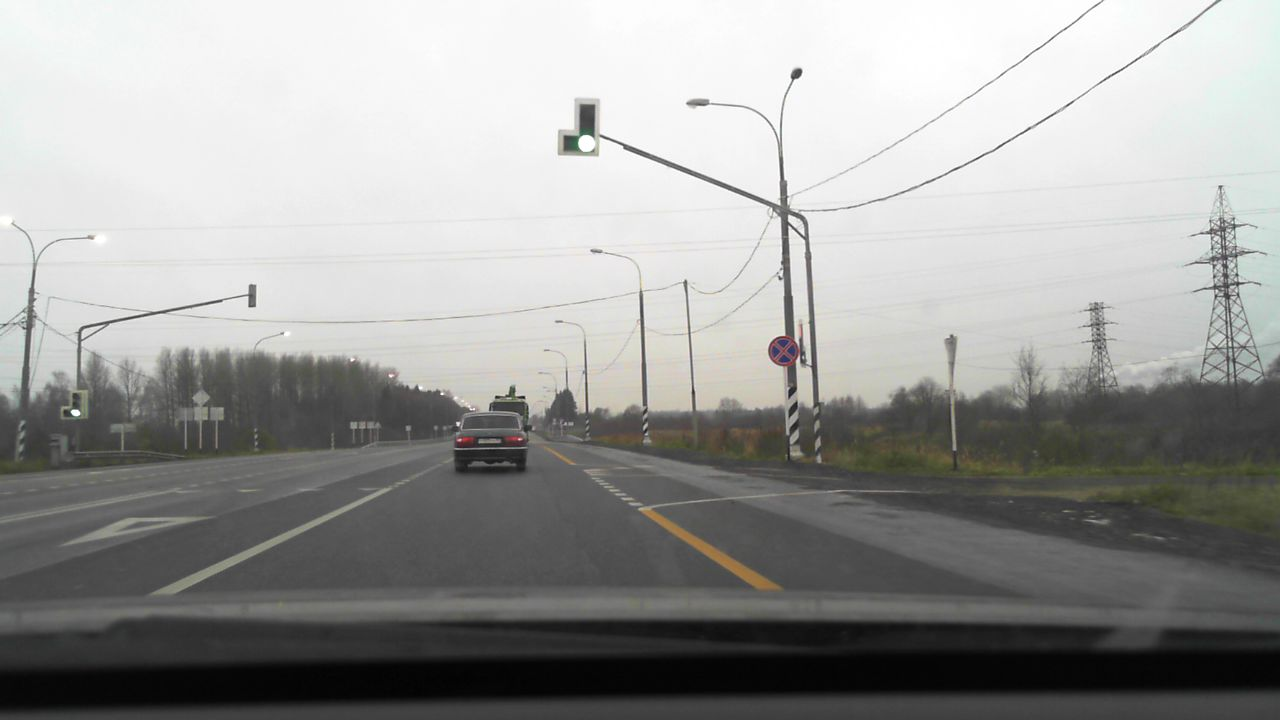No Parking: (767, 335, 799, 366)
